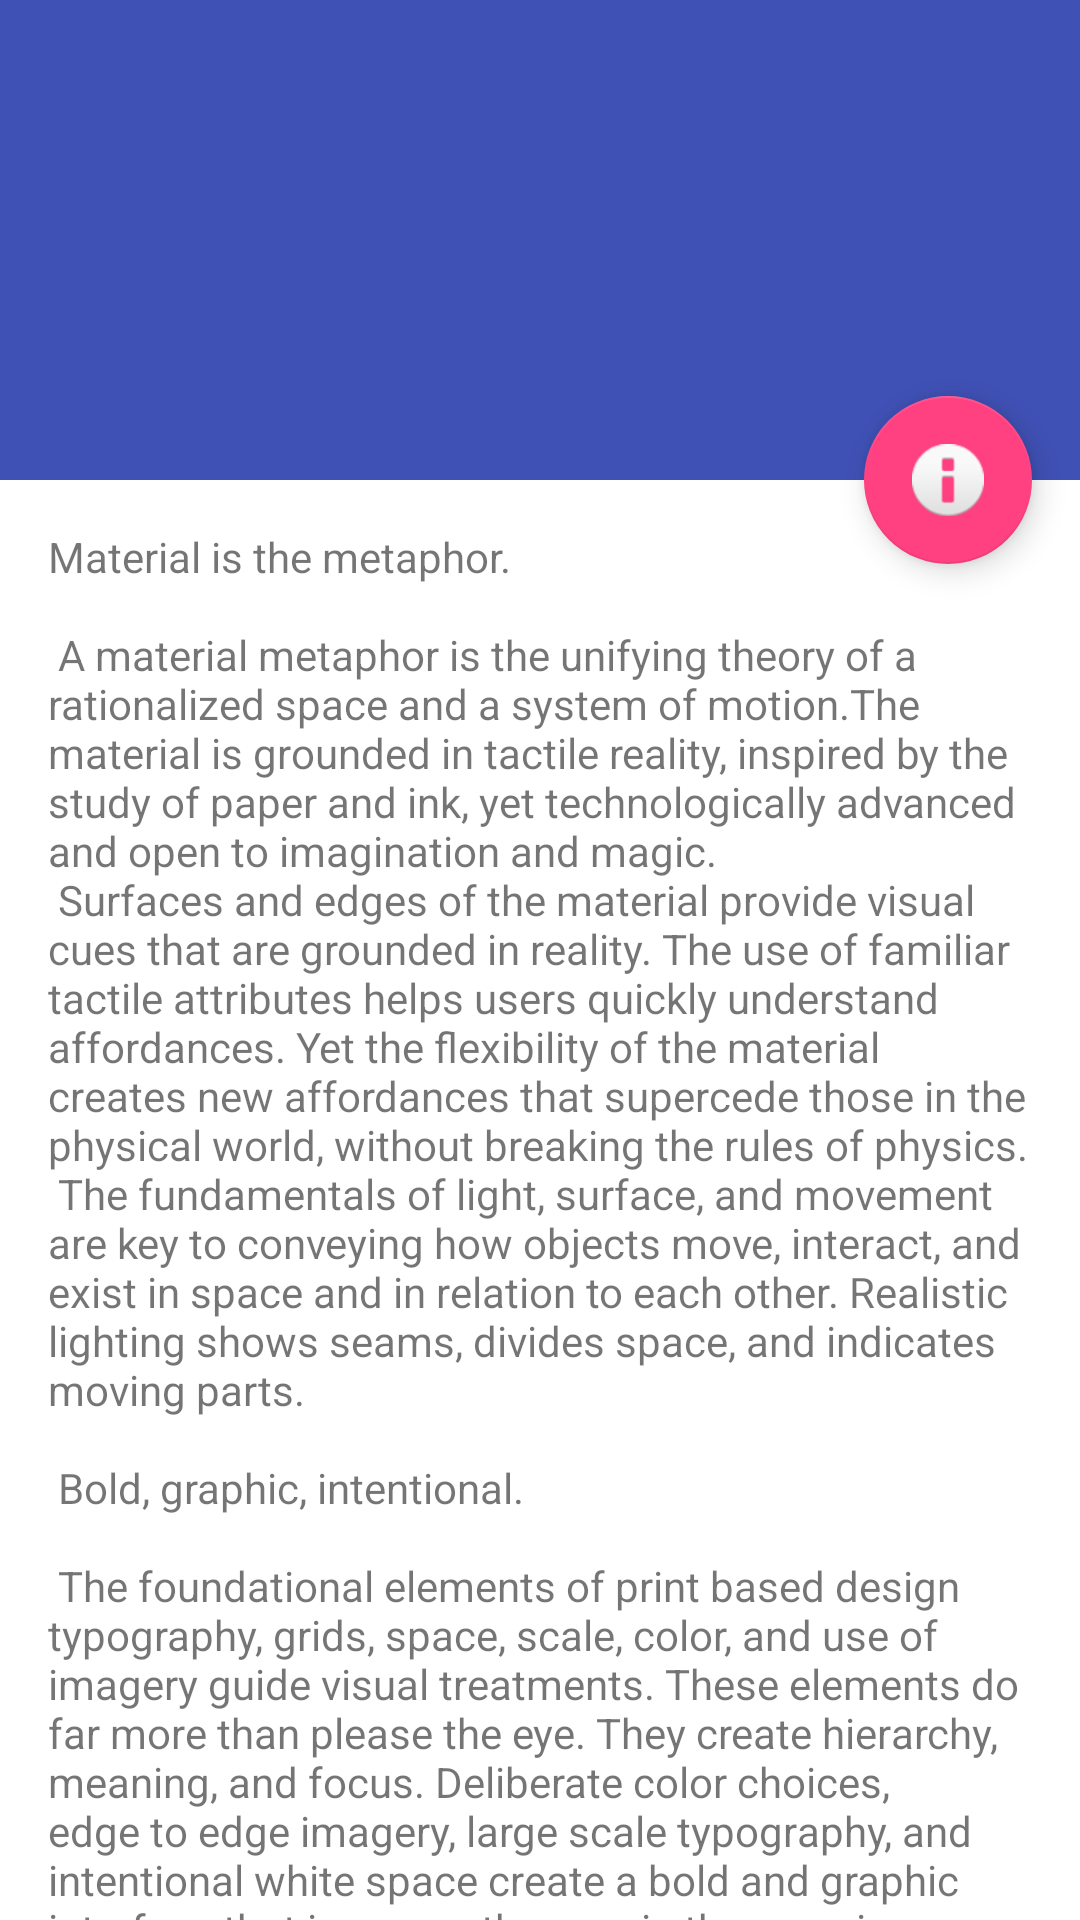

Named icons in this screenshot (1080w x 1920h) and their centers, (x=x, y=y):
info: (x=948, y=480)
